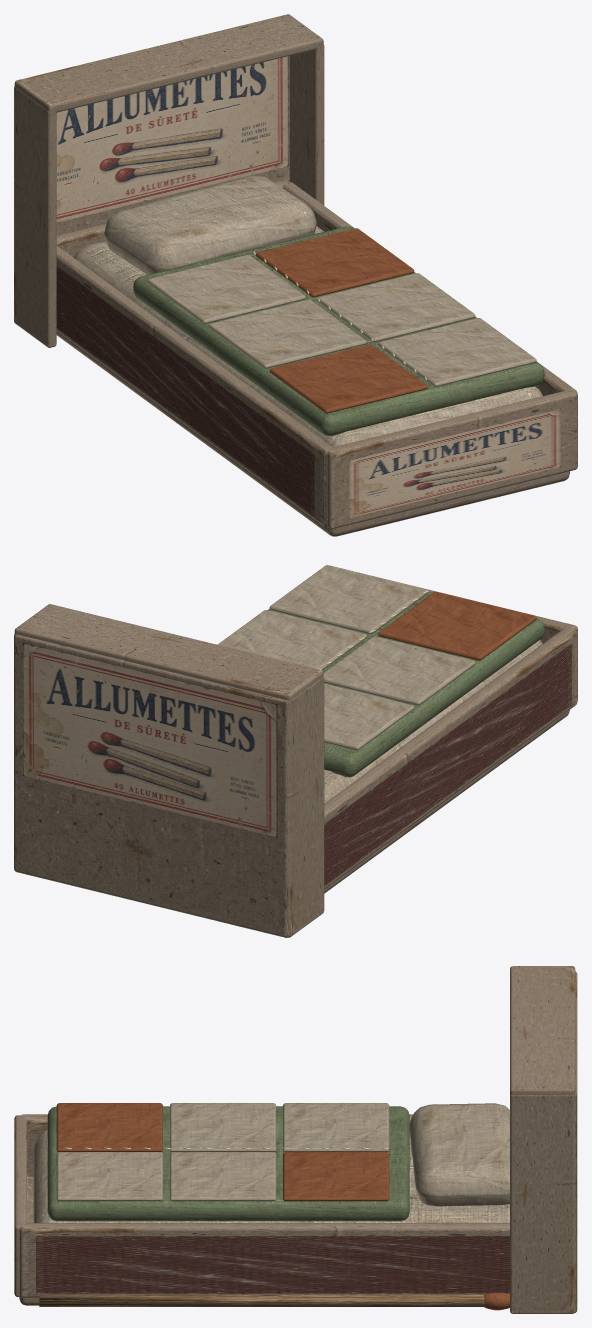
The model's file is matchbox_bed.glb.
The picture shows the model from 3 angles, top to bottom: view 1: azimuth 30°, elevation 25°; view 2: azimuth 150°, elevation 25°; view 3: azimuth 270°, elevation 25°; orthographic projection. The views are drawn at different scales.
Visible parts, largest first — view 1: matchbox_bed_mesh; view 2: matchbox_bed_mesh; view 3: matchbox_bed_mesh.
Part boxes in pixels (box(x1,y1,x2,y2)): matchbox_bed_mesh: box(14, 14, 577, 536); matchbox_bed_mesh: box(14, 565, 577, 937); matchbox_bed_mesh: box(14, 966, 577, 1313).
Size of the model in its own units: 1.04 by 0.8975 by 1.99.
9 materials, 8 textured.
